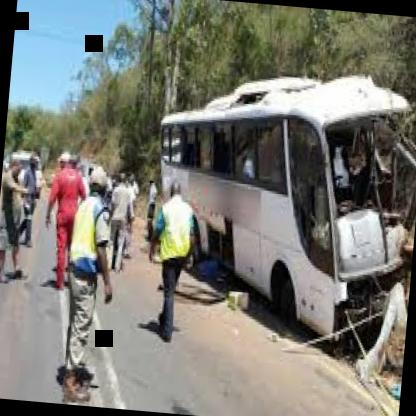accident: (135, 62, 416, 395)
